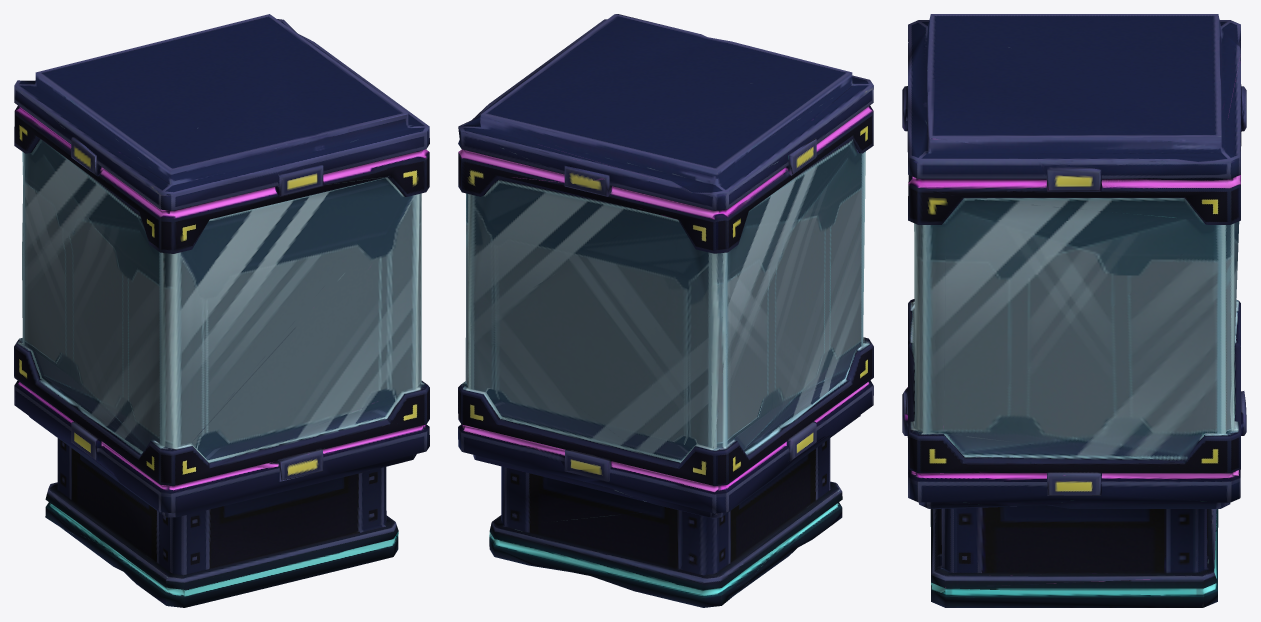
File: cajita-vidrio.glb
The picture shows the model from 3 angles, left to right: view 1: azimuth 30°, elevation 25°; view 2: azimuth 150°, elevation 25°; view 3: azimuth 270°, elevation 25°; orthographic projection. The views are drawn at different scales.
Bounding box in the file's own units: 1.32 × 2 × 1.32.
Materials: 1 (1 with a texture image).
